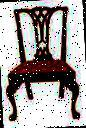Silla: (4, 4, 81, 123)
